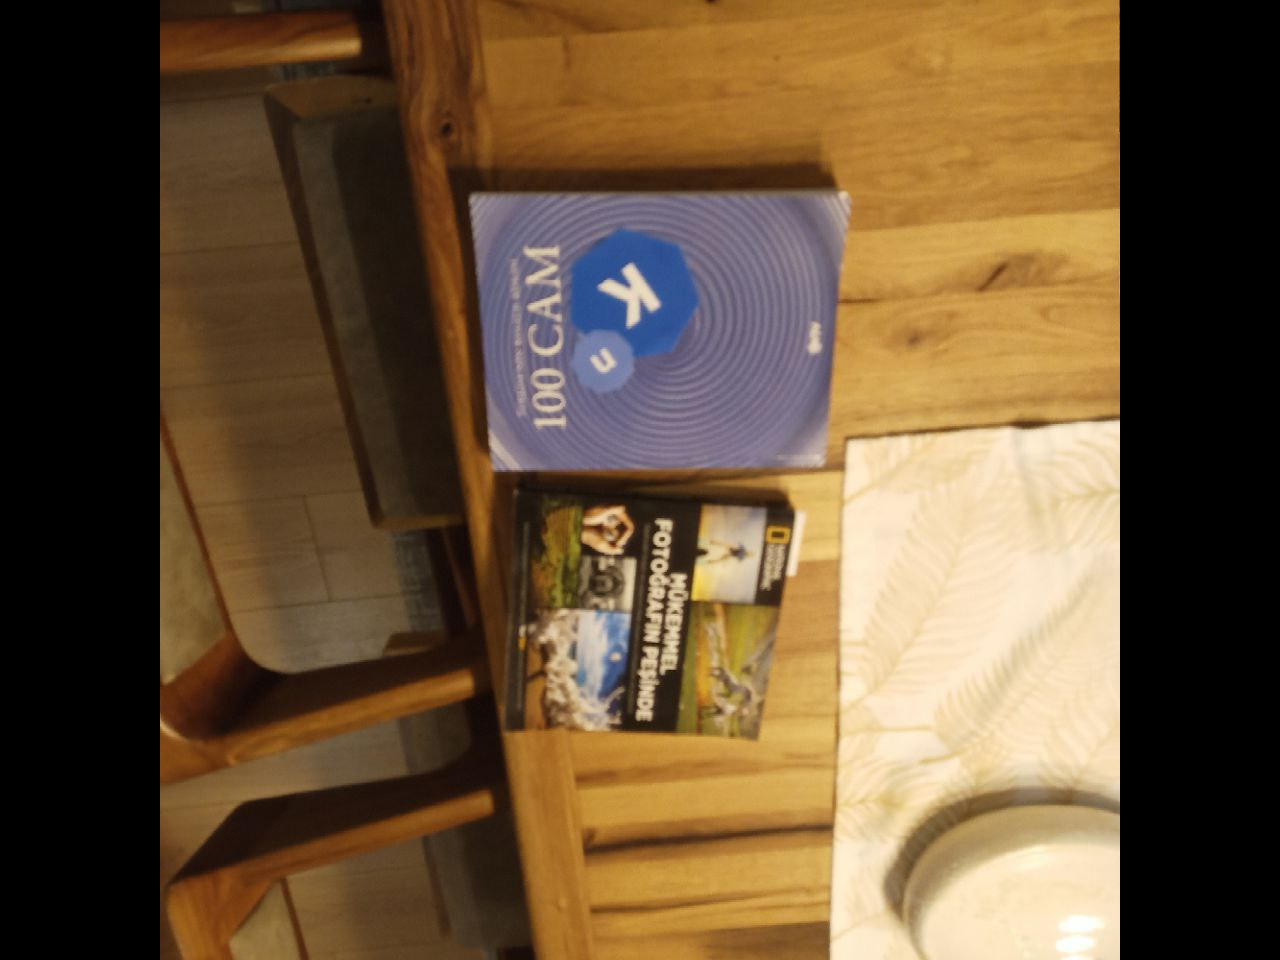knative: (569, 226, 698, 393)
